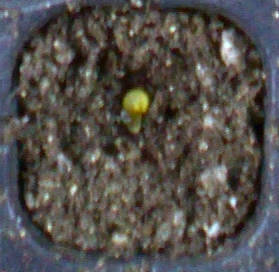pepper seed: (47, 30, 197, 145)
